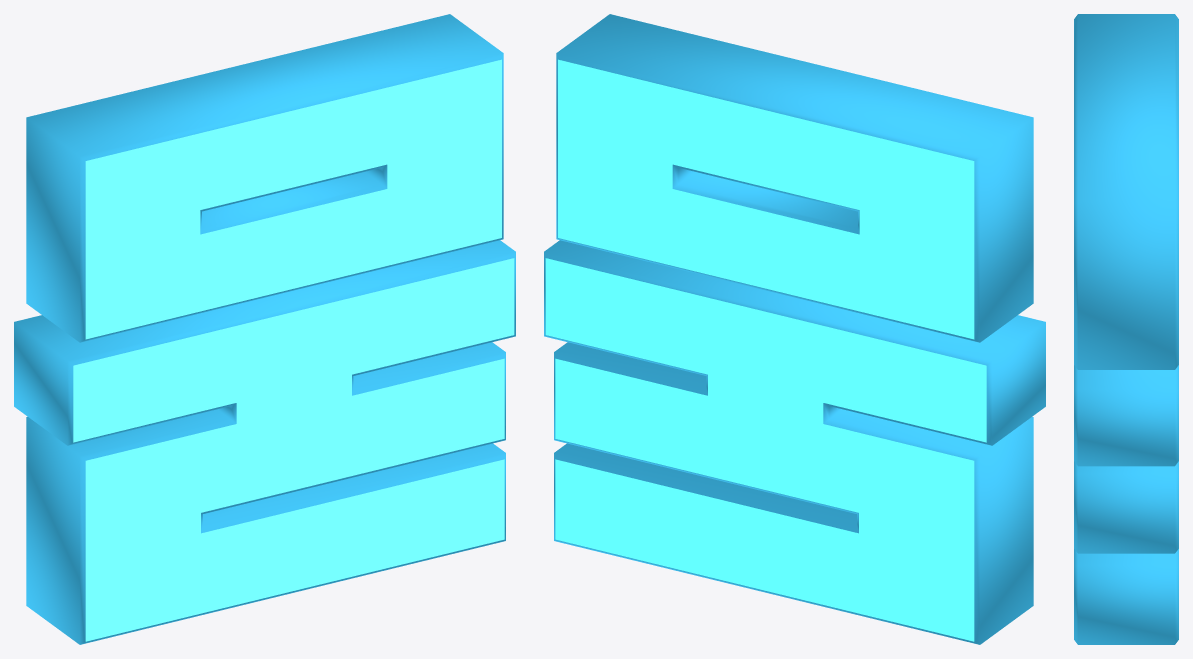
3 renders of one model, left to right at view 1: azimuth 30°, elevation 25°; view 2: azimuth 150°, elevation 25°; view 3: azimuth 270°, elevation 25°, orthographic. The views are drawn at different scales.
Parts seen in each view (by area): view 1: glyph; view 2: glyph; view 3: glyph.
Part boxes in pixels (box(x1,y1,x2,y2)): glyph: box(14, 14, 515, 644); glyph: box(544, 14, 1045, 644); glyph: box(1074, 14, 1178, 644).
Bounding box in the file's own units: 0.0725 × 0.0755 × 0.0162.
